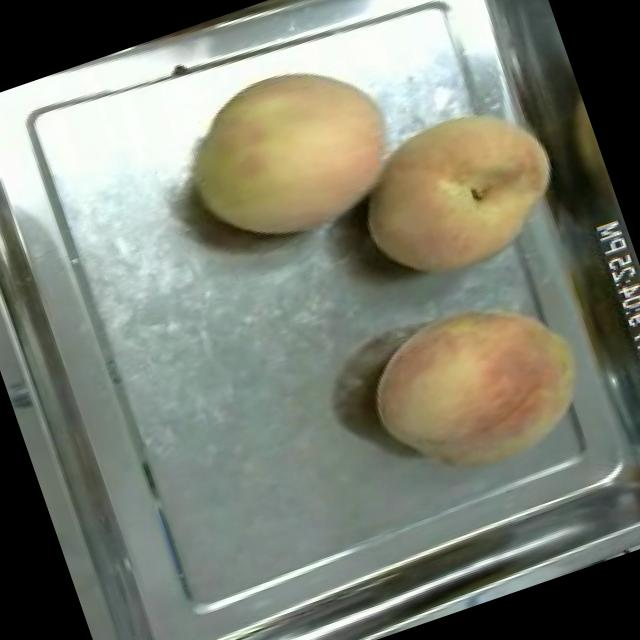Fruit: (342, 269, 612, 510), (157, 35, 419, 274), (328, 78, 588, 308)
